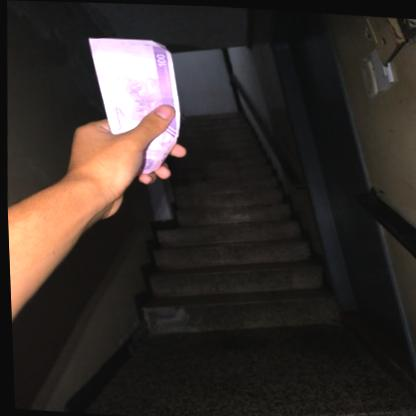one_hundred-back-vef: (82, 34, 184, 178)
